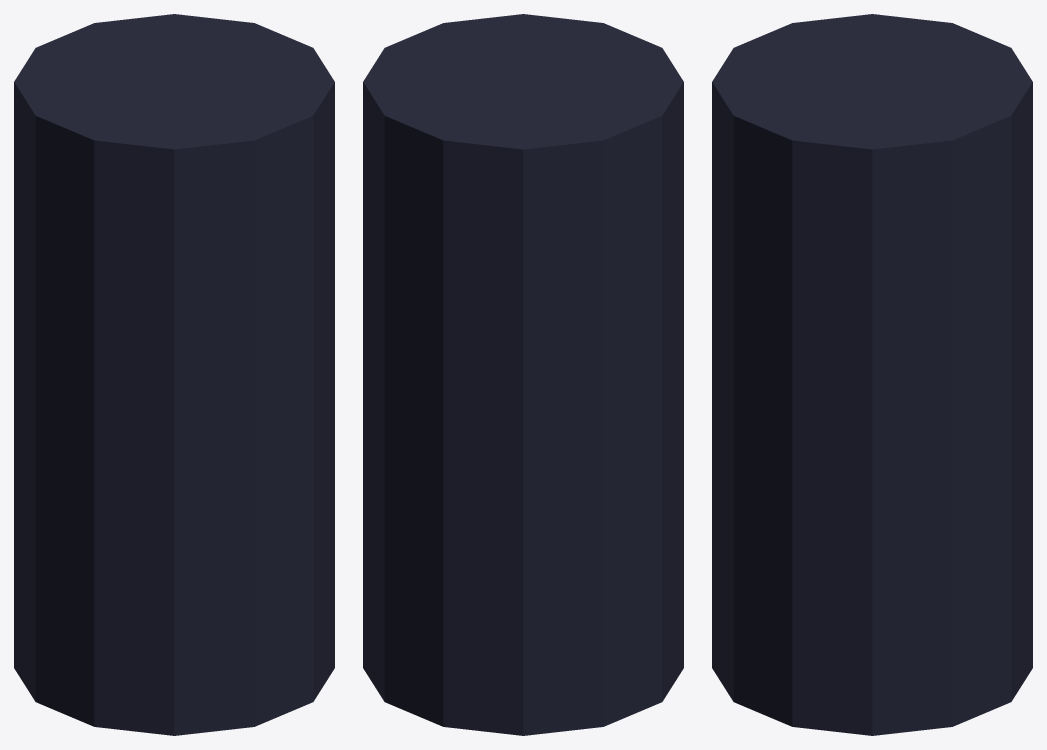
File: garb.glb
The picture shows the model from 3 angles, left to right: view 1: azimuth 30°, elevation 25°; view 2: azimuth 150°, elevation 25°; view 3: azimuth 270°, elevation 25°; orthographic projection.
Parts seen in each view (by area): view 1: Cylinder; view 2: Cylinder; view 3: Cylinder.
Part boxes in pixels (bbox=[...]): Cylinder: bbox=[14, 14, 334, 735]; Cylinder: bbox=[363, 14, 683, 735]; Cylinder: bbox=[712, 14, 1032, 735].
Size of the model in its own units: 0.6578 by 1.33 by 0.6578.
